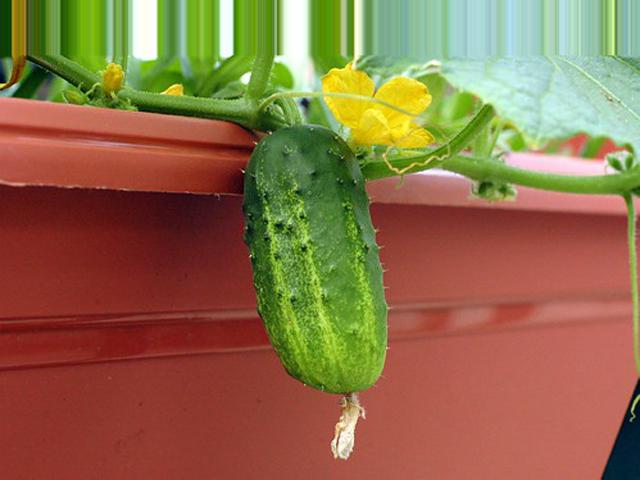cucumber: (244, 123, 389, 461)
